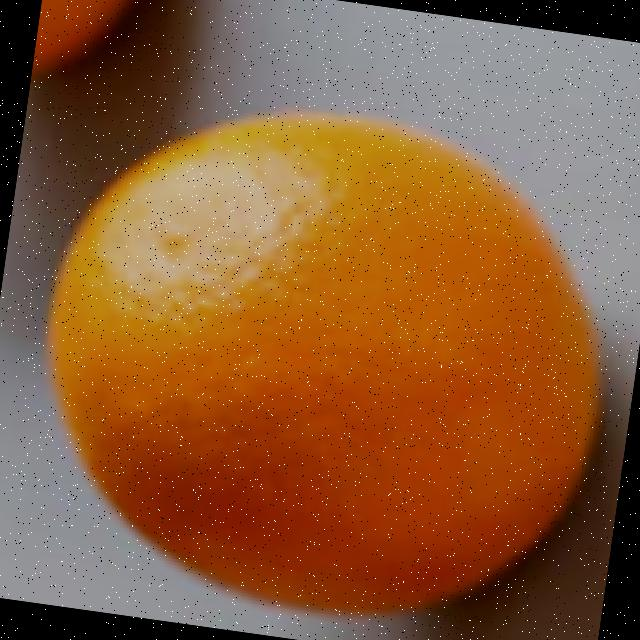orange: (11, 75, 640, 640)
